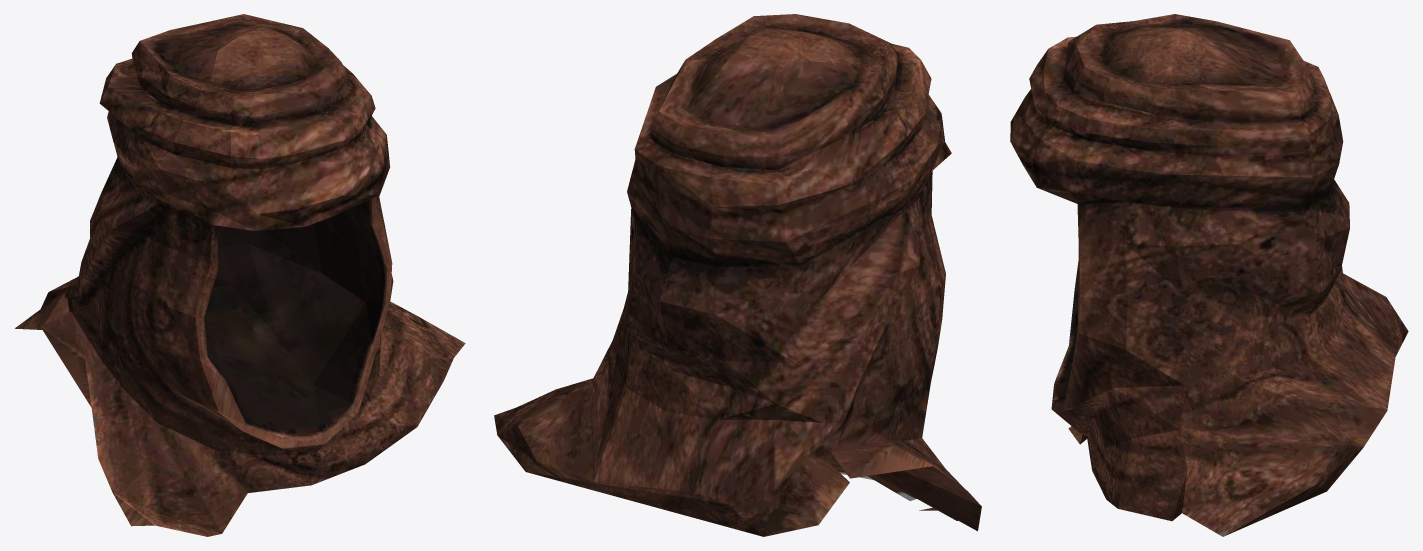
Rendered from HELMET_BANDAGE_01.glb.
3 renders of one model, left to right at view 1: azimuth 30°, elevation 25°; view 2: azimuth 150°, elevation 25°; view 3: azimuth 270°, elevation 25°, orthographic. The views are drawn at different scales.
Visible parts, largest first — view 1: HELMET_BANDAGE_01; view 2: HELMET_BANDAGE_01; view 3: HELMET_BANDAGE_01.
Boxes of the visible parts, x1,y1,x2,y2 form: HELMET_BANDAGE_01: [15, 14, 465, 536]; HELMET_BANDAGE_01: [494, 14, 981, 536]; HELMET_BANDAGE_01: [1010, 14, 1408, 536].
Size of the model in its own units: 0.3993 by 0.425 by 0.342.
Materials: 1 (1 with a texture image).
